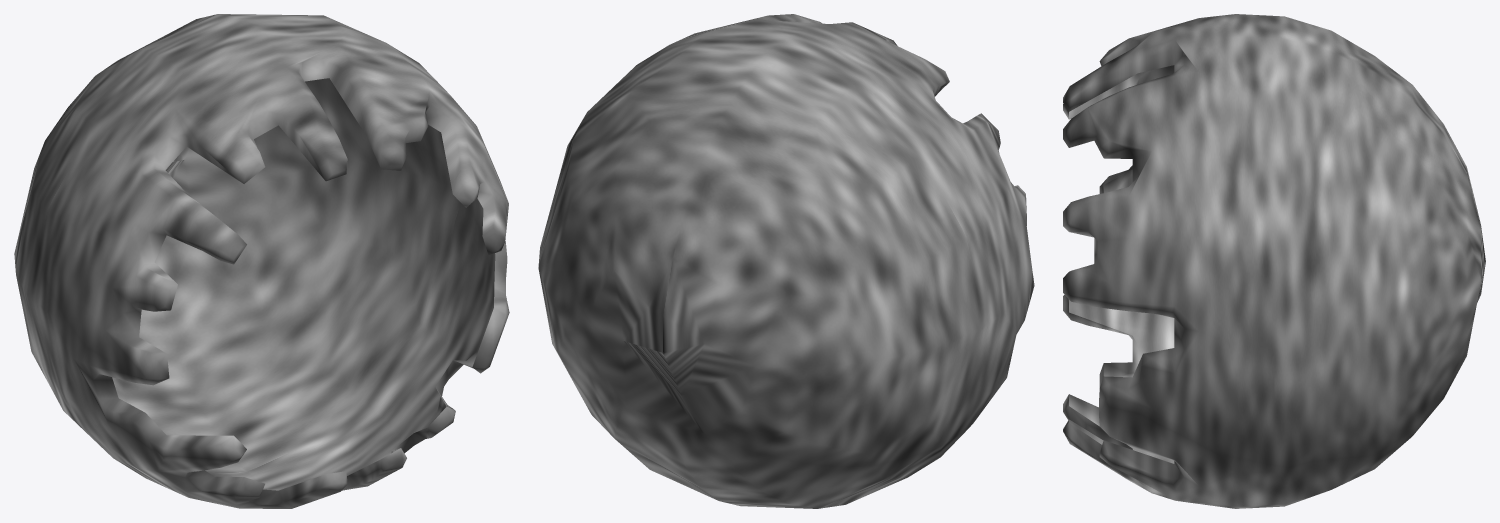
Rendered from rushSphere.FBX.
3 views of the same model, side by side, from view 1: azimuth 30°, elevation 25°; view 2: azimuth 150°, elevation 25°; view 3: azimuth 270°, elevation 25° (orthographic).
Parts seen in each view (by area): view 1: rushSphere; view 2: rushSphere; view 3: rushSphere.
Boxes of the visible parts, x1,y1,x2,y2 form: rushSphere: (14,14,509,508); rushSphere: (538,14,1034,508); rushSphere: (1063,14,1485,508).
Size of the model in its own units: 69.8 by 69.8 by 59.58.
